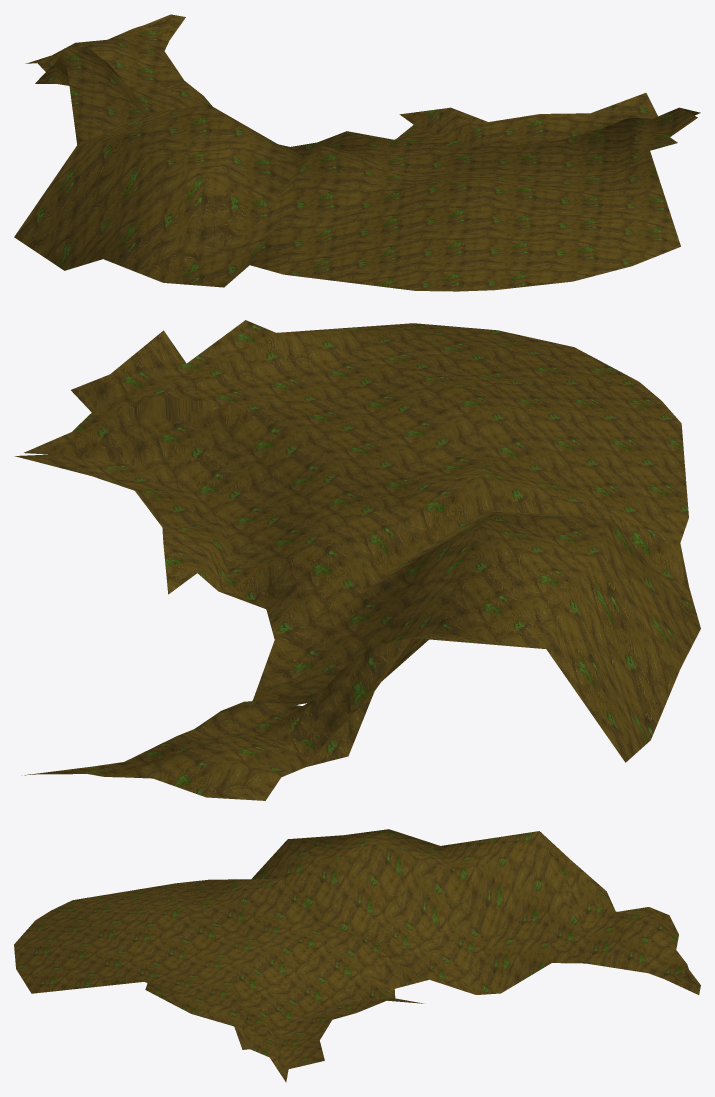
The model's file is MIRKWOOD_AREA1-2_BARRIER.fbx.
3 renders of one model, top to bottom at view 1: azimuth 30°, elevation 25°; view 2: azimuth 150°, elevation 25°; view 3: azimuth 270°, elevation 25°, orthographic. The views are drawn at different scales.
Visible parts, largest first — view 1: MIRKWOOD_AREA1-2_BARRIER; view 2: MIRKWOOD_AREA1-2_BARRIER; view 3: MIRKWOOD_AREA1-2_BARRIER.
Part boxes in pixels (x1,y1,x2,y2): MIRKWOOD_AREA1-2_BARRIER: [14, 14, 700, 291]; MIRKWOOD_AREA1-2_BARRIER: [14, 320, 700, 800]; MIRKWOOD_AREA1-2_BARRIER: [14, 829, 700, 1082].
Bounding box in the file's own units: 1139463 × 252989 × 1423781.
1 material, 1 textured.
